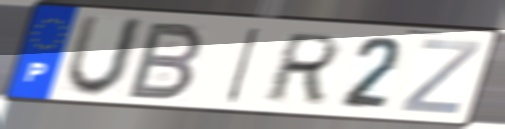2: (336, 34, 404, 112)
B: (122, 20, 208, 102)
I: (222, 24, 264, 105)
R: (259, 30, 345, 104)
U: (61, 12, 149, 100)
Z: (397, 37, 484, 117)
